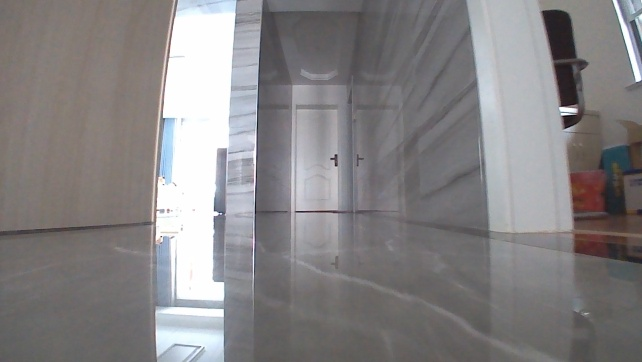door_anno: (289, 99, 341, 216)
